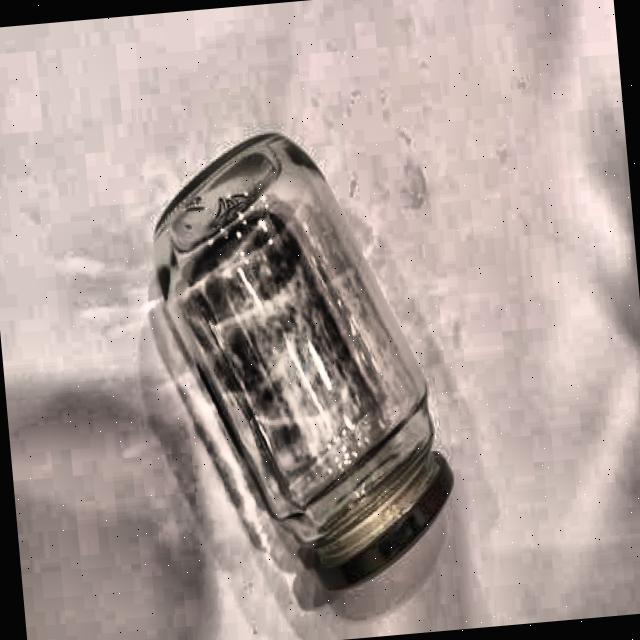glass: (140, 106, 464, 596)
